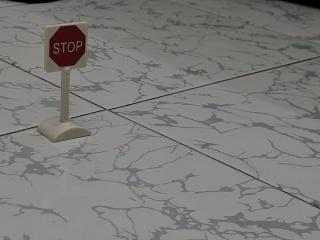stop: (37, 18, 93, 80)
